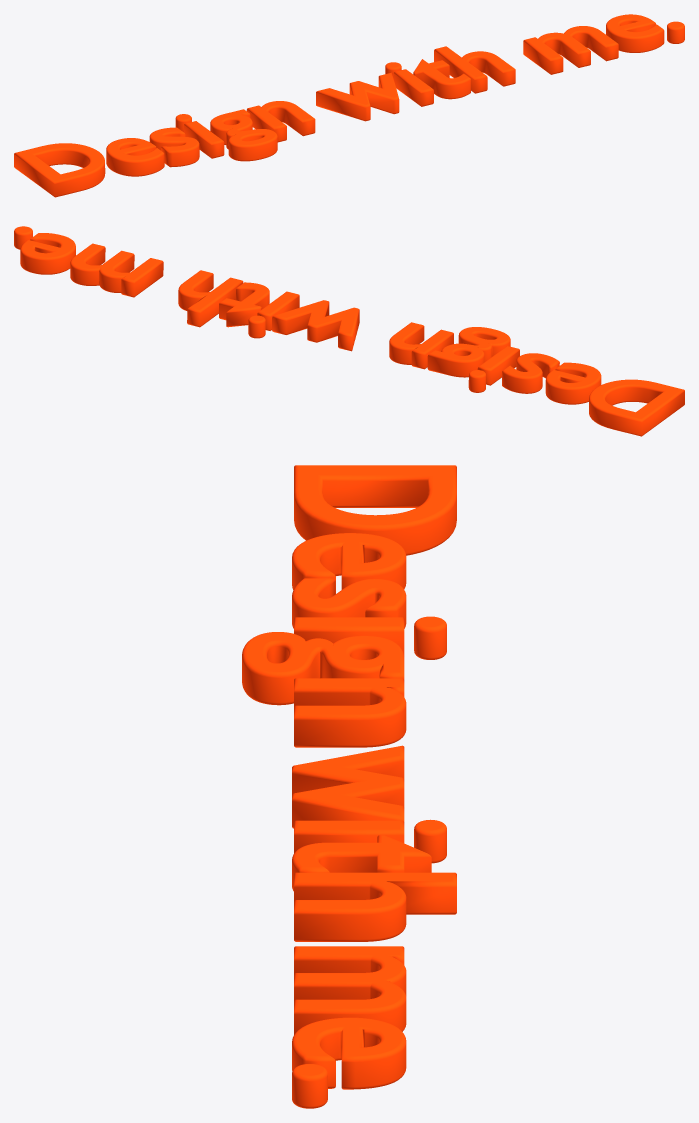
File: deswme.glb
The picture shows the model from 3 angles, top to bottom: view 1: azimuth 30°, elevation 25°; view 2: azimuth 150°, elevation 25°; view 3: azimuth 270°, elevation 25°; orthographic projection. The views are drawn at different scales.
Visible parts, largest first — view 1: Text.001; view 2: Text.001; view 3: Text.001.
Boxes of the visible parts, x1=… form: Text.001: x1=14, y1=14, x2=684, y2=197; Text.001: x1=14, y1=226, x2=684, y2=436; Text.001: x1=242, y1=465, x2=456, y2=1108.
Bounding box in the file's own units: 19.41 × 0.5379 × 2.86.
